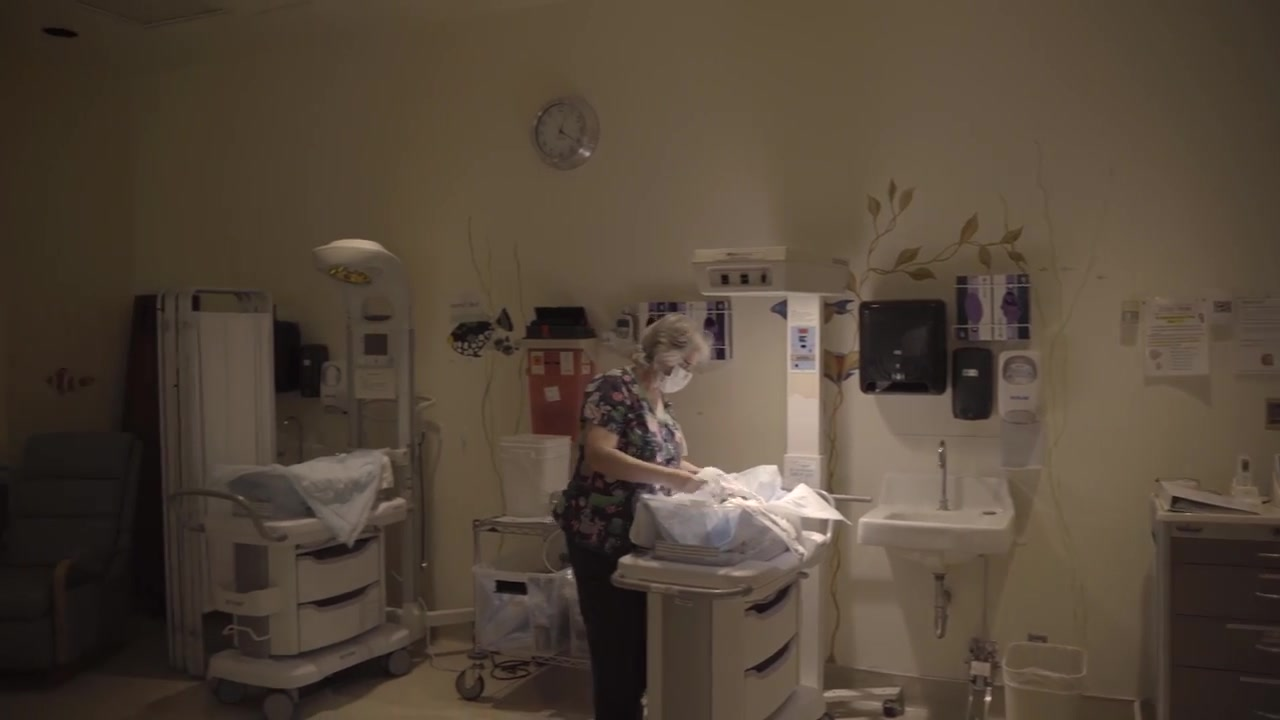dispenser: (858, 299, 947, 396), (998, 350, 1043, 424), (952, 347, 994, 420), (299, 344, 328, 398), (319, 361, 349, 413)
faucet: (275, 415, 304, 463), (937, 439, 950, 510)
handle: (1255, 591, 1280, 599), (1257, 552, 1280, 559)
medical_drawer: (1151, 492, 1280, 720)
panda_baby_warmer: (170, 238, 423, 716), (631, 247, 840, 719)
sink: (856, 472, 1016, 566)
sofa: (1, 431, 142, 669)
staff: (551, 313, 709, 720)
utility_cart: (455, 515, 593, 701)
waste_bin: (1001, 642, 1087, 720), (496, 434, 572, 515)
